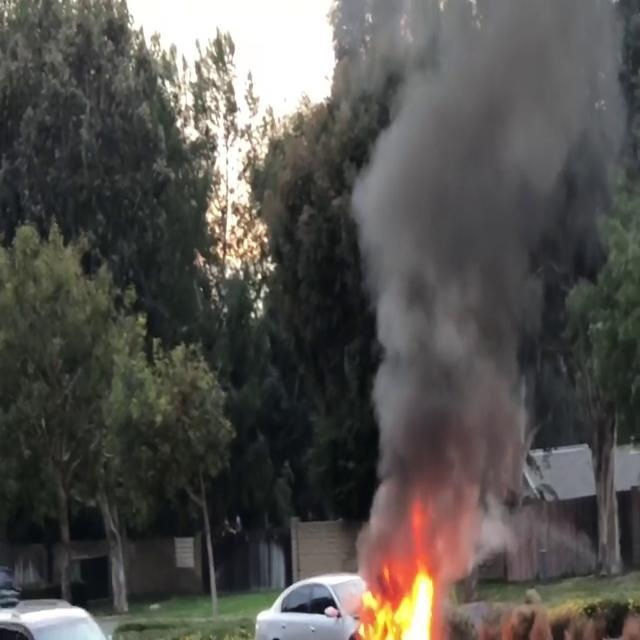Fire: (354, 552, 444, 640)
Smoke: (344, 1, 636, 526)
